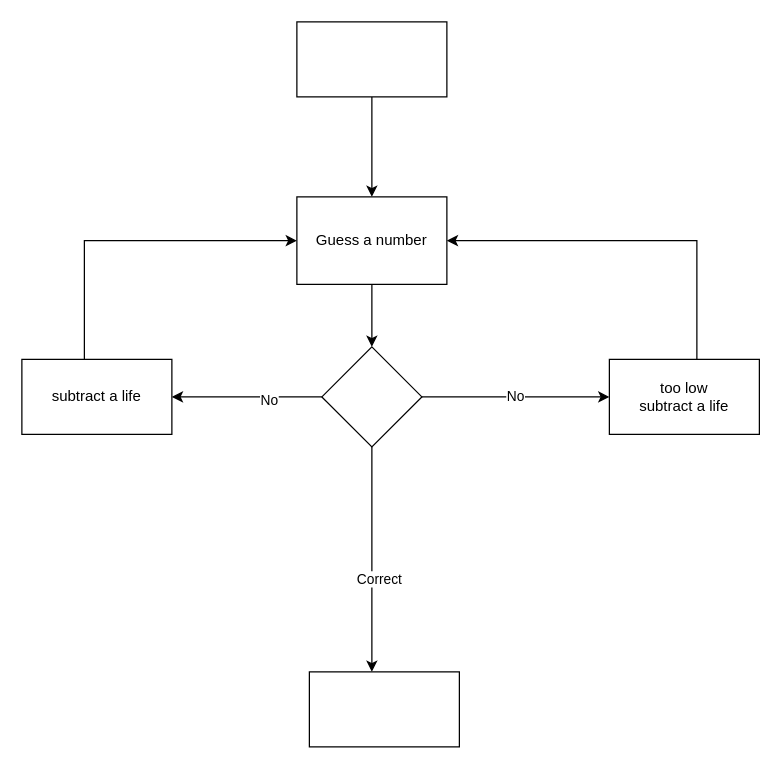
Image size: 781x769. Some labels were removed from this diagram. Here are the shapes that lost their labels. From the top down, the box of each, then its label:
(296, 21, 447, 97): Start
(321, 346, 422, 447): High/Low?
